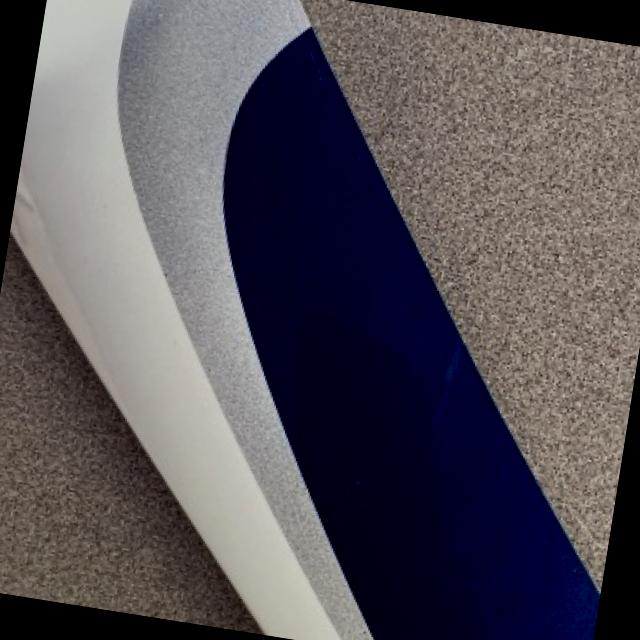healthy: (13, 0, 640, 640)
